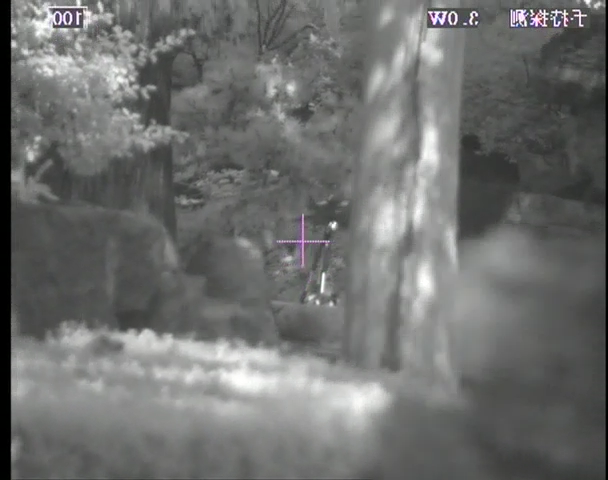my: (327, 221, 337, 231)
